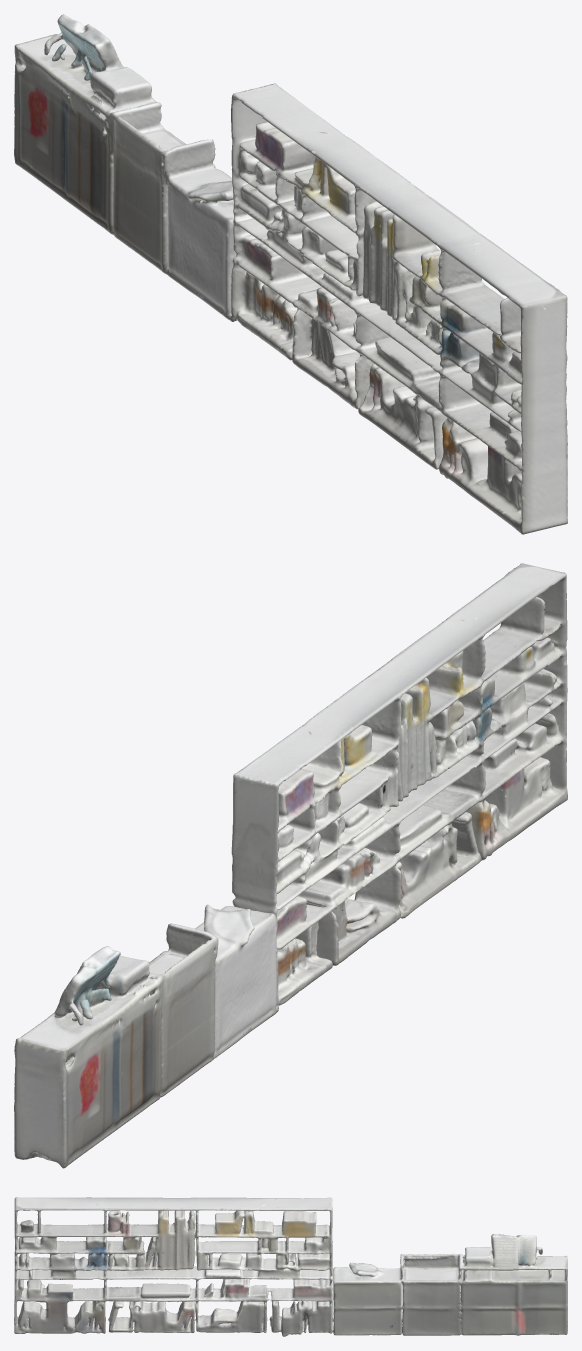
The model's file is Meshy_AI_Minimalist_Bookstore__0318092643_texture.glb.
3 views of the same model, one above another, from view 1: azimuth 30°, elevation 25°; view 2: azimuth 150°, elevation 25°; view 3: azimuth 270°, elevation 25° (orthographic). The views are drawn at different scales.
Bounding box in the file's own units: 0.1373 × 0.5036 × 2.
Materials: 1 (1 with a texture image).
